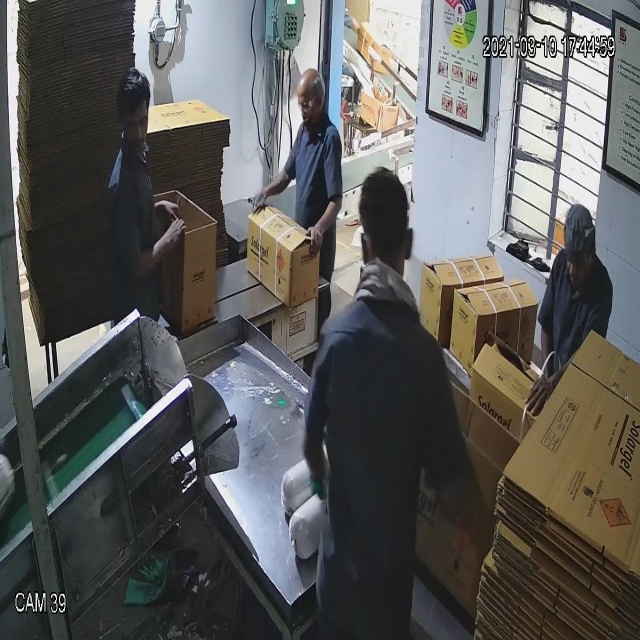Sin_guantes: (119, 222, 192, 281), (522, 361, 579, 429), (297, 187, 339, 269), (239, 164, 295, 220)
